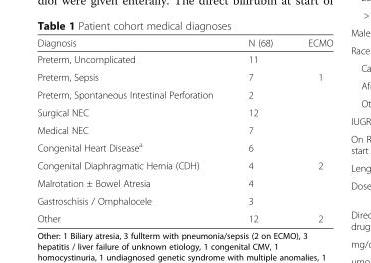table: (36, 36, 332, 223)
table column: (36, 36, 230, 223), (230, 36, 289, 223), (289, 36, 332, 223)
table column header: (36, 36, 332, 50)
table row: (36, 137, 332, 156), (36, 67, 332, 85), (36, 85, 332, 103), (36, 173, 332, 191), (36, 191, 332, 209), (36, 50, 332, 67), (36, 103, 332, 120), (36, 120, 332, 137), (36, 156, 332, 173), (36, 36, 332, 50), (36, 209, 332, 223)
